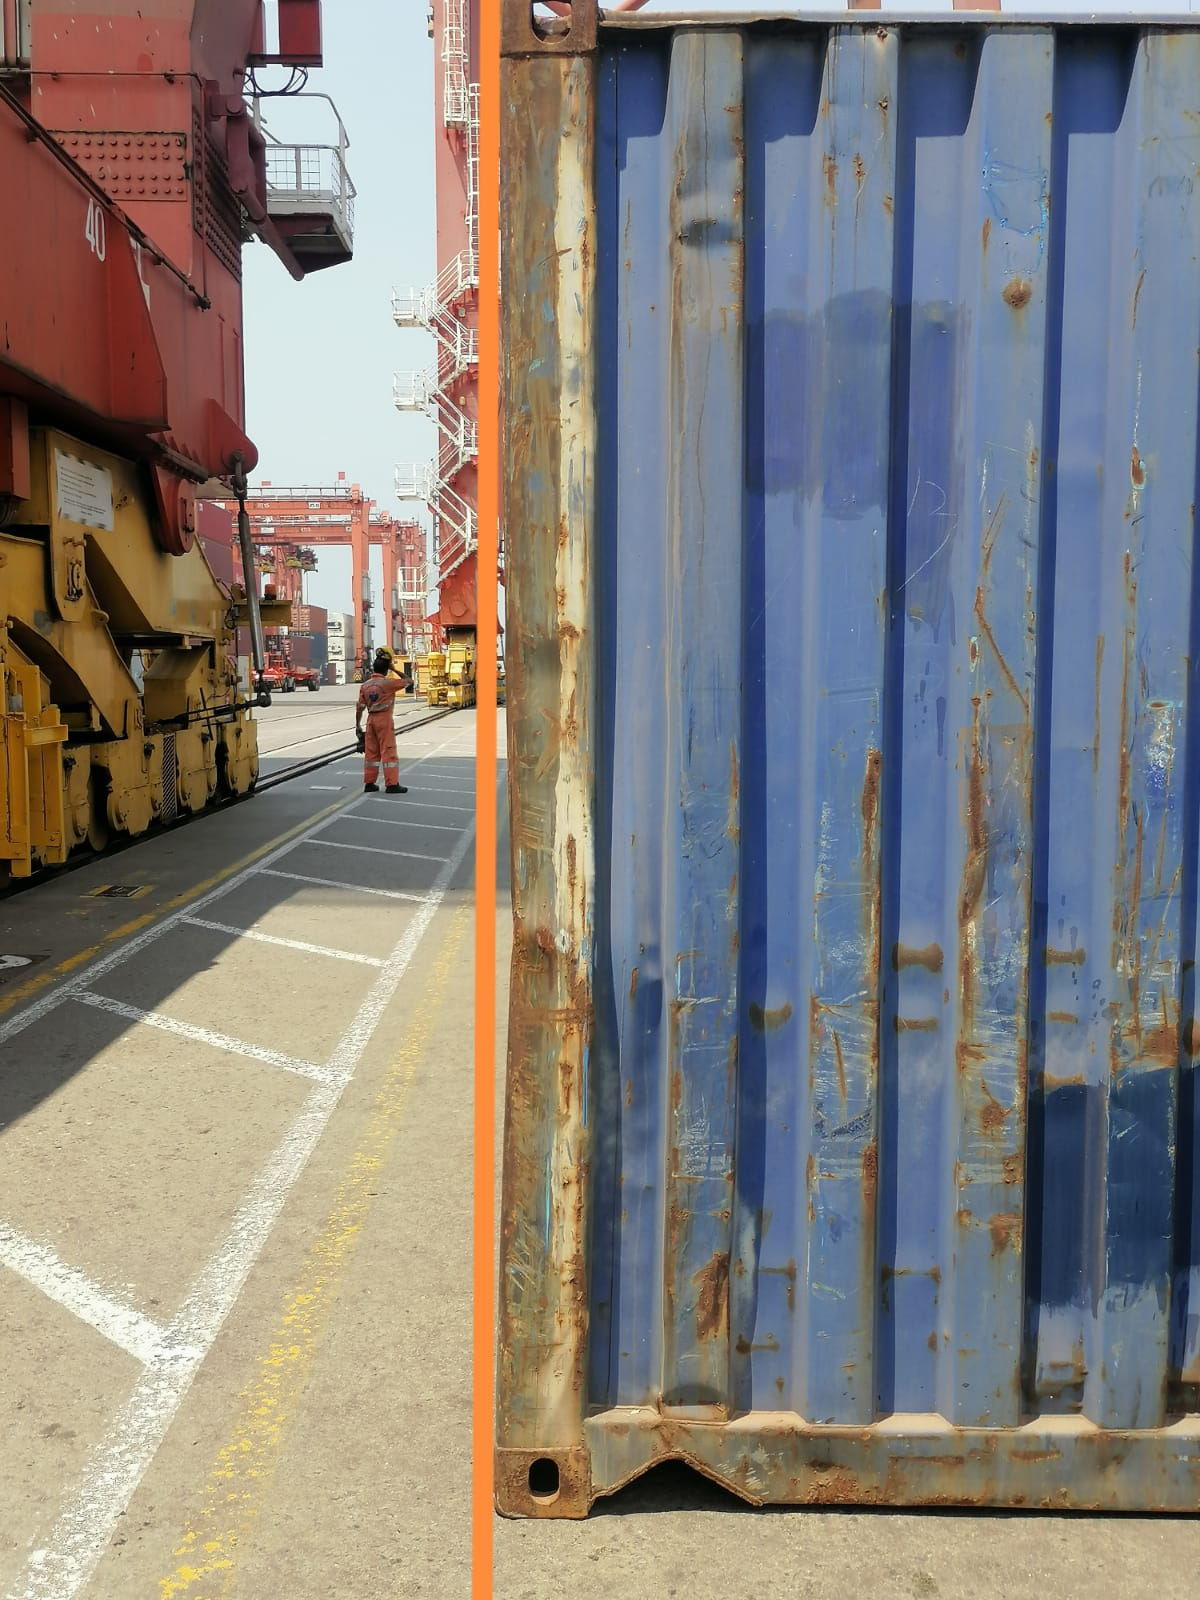bulged: (522, 871, 1179, 1245)
